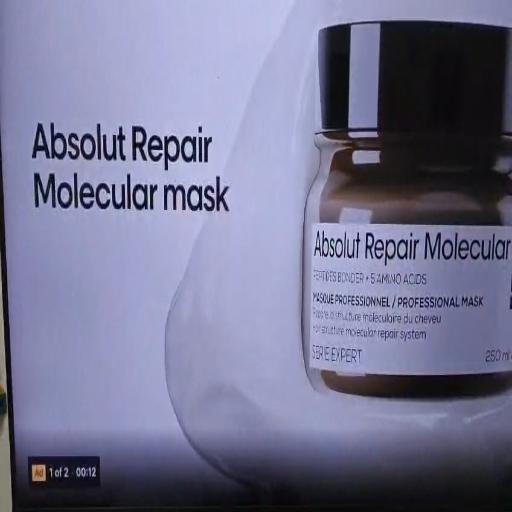ad label: (29, 462, 49, 488)
